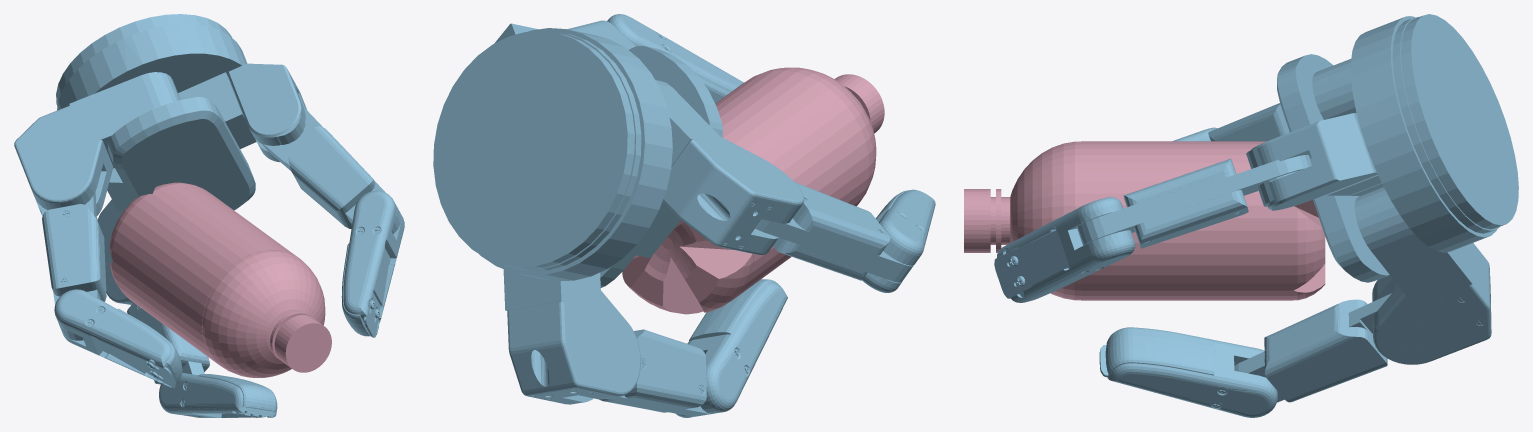
3 views of the same model, side by side, from view 1: azimuth 30°, elevation 25°; view 2: azimuth 150°, elevation 25°; view 3: azimuth 270°, elevation 25° (orthographic). The views are drawn at different scales.
Visible parts, largest first — view 1: world, water_bottle.stl; view 2: world, water_bottle.stl; view 3: world, water_bottle.stl.
Part boxes in pixels (<box>): world: <box>14,14,404,417</box>; water_bottle.stl: <box>109,182,331,377</box>; world: <box>433,14,935,417</box>; water_bottle.stl: <box>622,67,884,314</box>; world: <box>994,14,1518,417</box>; water_bottle.stl: <box>964,141,1325,300</box>.
Size of the model in its own units: 0.1589 by 0.1707 by 0.2097.
